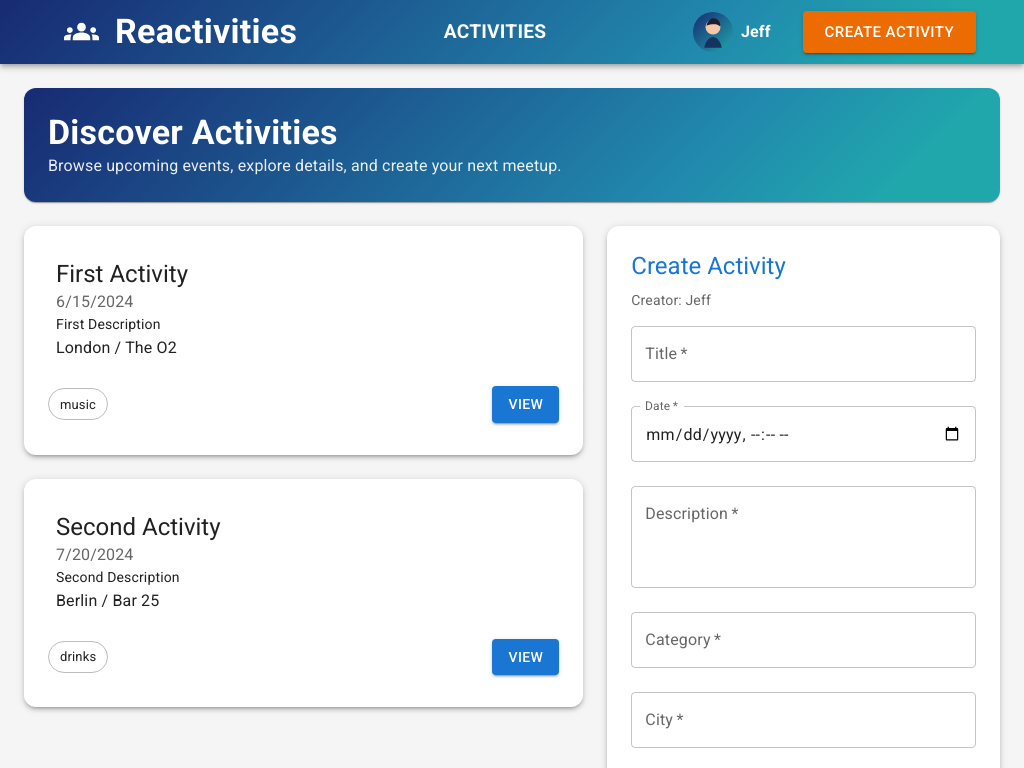
Test: App › cancelling an activity clears the detail view
The width and height of the screenshot is (1024, 768).
expect the heading "First Activity" is shown: met, box [56,260,188,288]
Click the button "View" in the row of "music": (526, 404) [492,386,559,422]
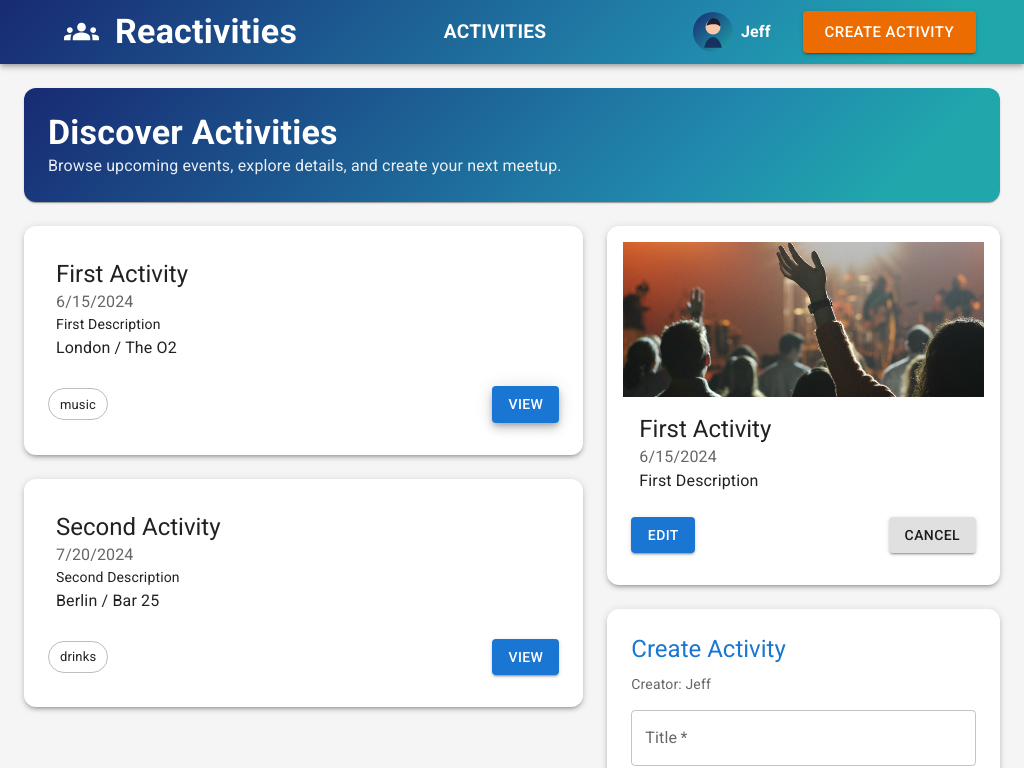
expect the button "Edit" is shown: met, box [631,517,695,553]
Click the button "Cancel": (932, 535) [889,517,976,553]
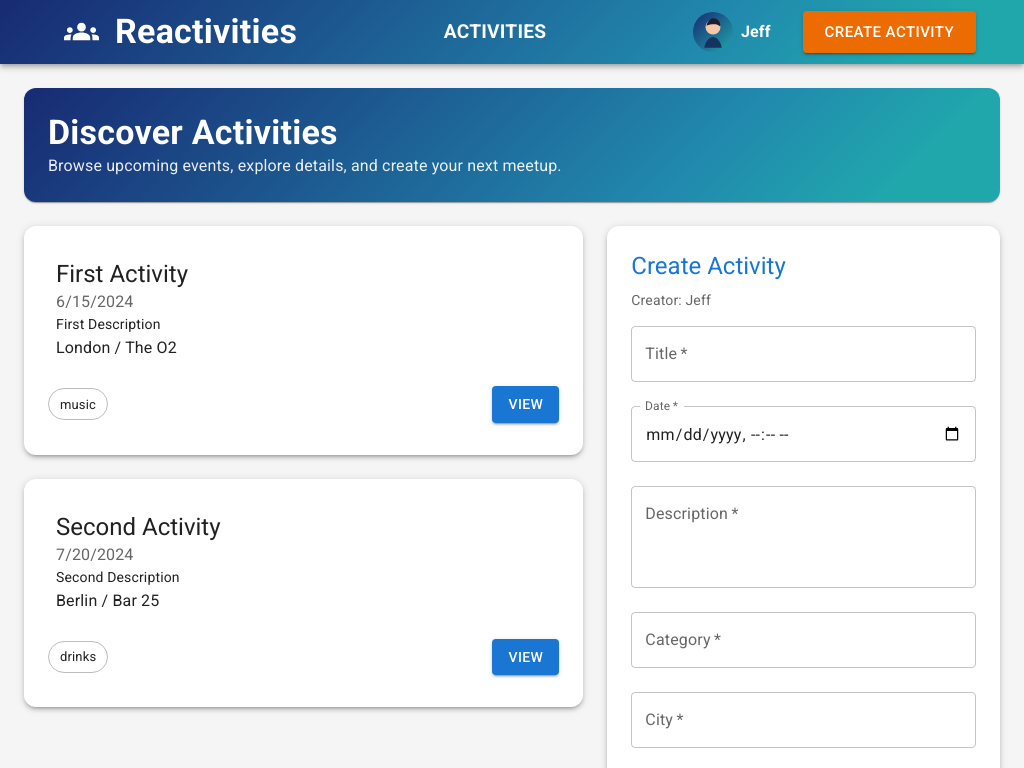
expect the button "Edit" is gone: met
